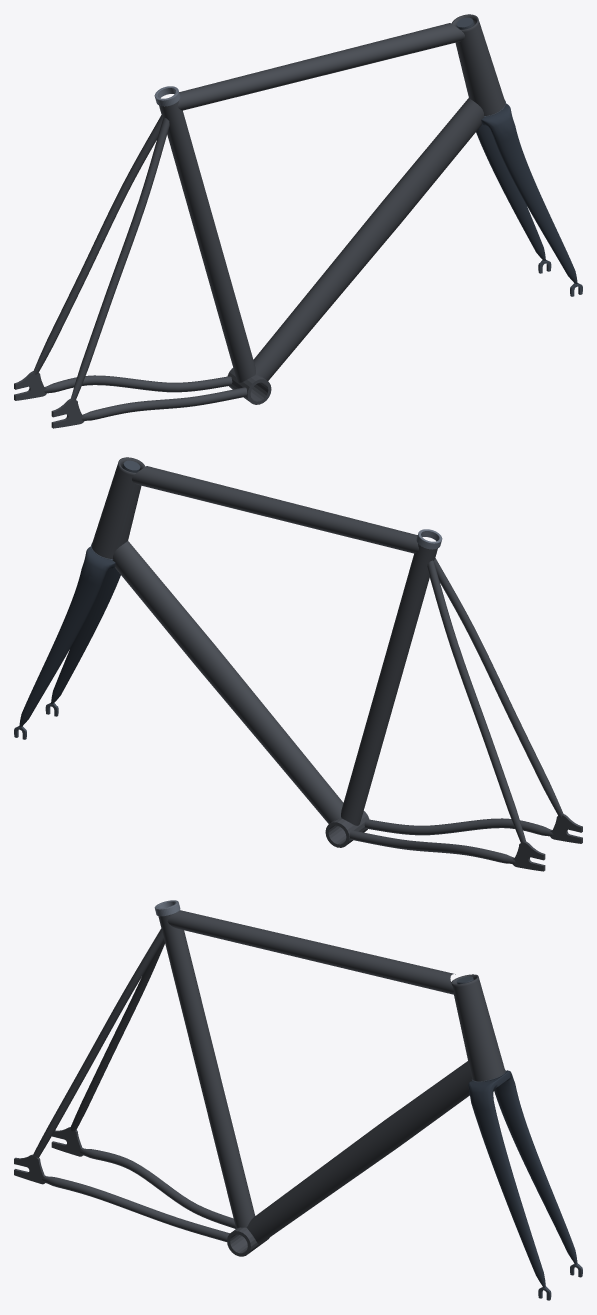
Rendered from skream-magnum-l.glb.
The picture shows the model from 3 angles, top to bottom: view 1: azimuth 30°, elevation 25°; view 2: azimuth 150°, elevation 25°; view 3: azimuth 330°, elevation 25°; orthographic projection.
Visible parts, largest first — view 1: paint_down, paint_seat, paint_top, fork_blade_1, paint_head, paint_seatstay_1, paint_seatstay_-1, fork_blade_-1, paint_chainstay_-1, paint_chainstay_1, paint_bottom_bracket, fork_crown (+2 smaller); view 2: paint_down, paint_seat, paint_top, fork_blade_-1, paint_head, paint_seatstay_-1, paint_seatstay_1, fork_blade_1, paint_chainstay_1, paint_chainstay_-1, paint_bottom_bracket, fork_crown (+2 smaller); view 3: paint_down, paint_seat, paint_top, paint_head, fork_blade_1, fork_blade_-1, paint_seatstay_1, paint_chainstay_1, paint_seatstay_-1, paint_chainstay_-1, fork_crown, paint_bottom_bracket (+2 smaller).
Boxes of the visible parts, x1,y1,x2,y2 form: paint_down: [253, 98, 484, 380]; paint_seat: [159, 101, 255, 382]; paint_top: [178, 23, 464, 110]; fork_blade_1: [493, 126, 577, 284]; paint_head: [451, 14, 505, 115]; paint_seatstay_1: [70, 117, 169, 399]; paint_seatstay_-1: [33, 115, 163, 374]; fork_blade_-1: [476, 124, 545, 260]; paint_chainstay_-1: [43, 375, 232, 393]; paint_chainstay_1: [81, 387, 247, 420]; paint_bottom_bracket: [227, 368, 271, 404]; fork_crown: [481, 103, 515, 136]; paint_down: [112, 541, 343, 823]; paint_seat: [341, 544, 437, 825]; paint_top: [132, 466, 418, 553]; fork_blade_-1: [19, 569, 103, 727]; paint_head: [91, 457, 145, 558]; paint_seatstay_-1: [427, 560, 526, 842]; paint_seatstay_1: [433, 558, 563, 817]; fork_blade_1: [51, 567, 120, 703]; paint_chainstay_1: [364, 818, 553, 836]; paint_chainstay_-1: [349, 830, 515, 863]; paint_bottom_bracket: [325, 811, 369, 847]; fork_crown: [81, 546, 115, 579]; paint_down: [247, 1061, 472, 1244]; paint_seat: [158, 914, 255, 1228]; paint_top: [167, 910, 455, 994]; paint_head: [451, 974, 505, 1081]; fork_blade_1: [471, 1100, 545, 1287]; fork_blade_-1: [494, 1084, 577, 1264]; paint_seatstay_1: [33, 928, 163, 1157]; paint_chainstay_1: [42, 1176, 229, 1241]; paint_seatstay_-1: [70, 940, 164, 1131]; paint_chainstay_-1: [80, 1148, 235, 1228]; fork_crown: [468, 1070, 515, 1103]; paint_bottom_bracket: [227, 1227, 269, 1256].
Bounding box in the file's own units: 1.02 × 0.5983 × 0.1441.
